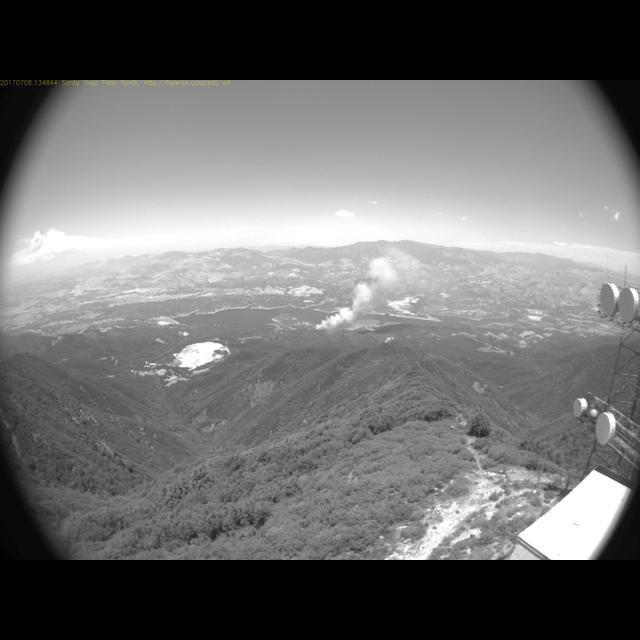Smoke: (305, 246, 437, 332)
